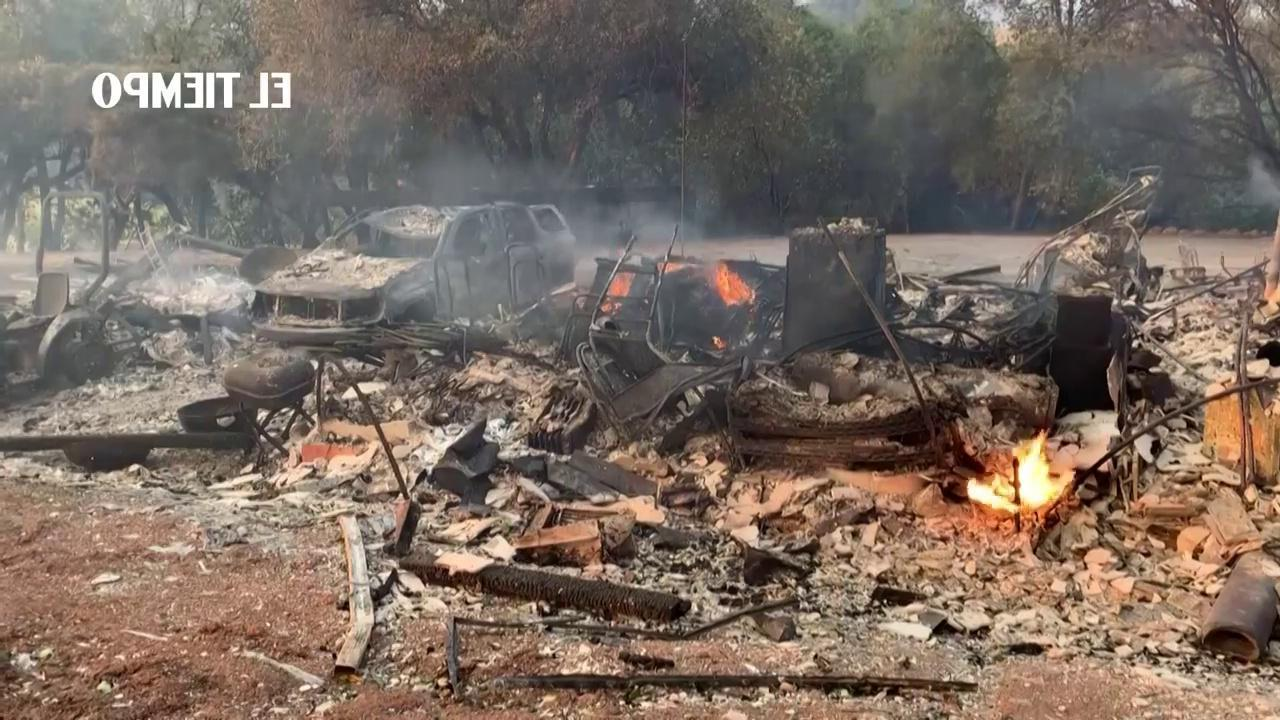Fire: (967, 426, 1084, 508), (713, 264, 755, 303), (613, 269, 634, 300), (713, 335, 733, 351)
